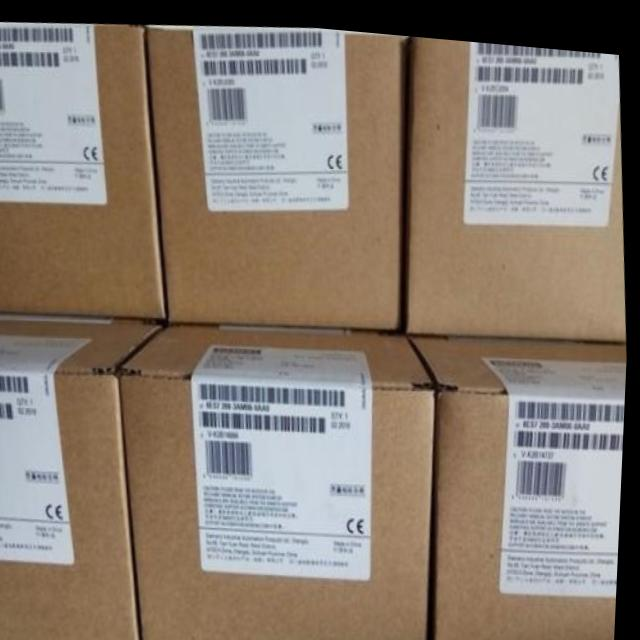box: (118, 321, 441, 640), (145, 22, 402, 323), (408, 328, 629, 640), (402, 28, 628, 330), (0, 315, 170, 640), (0, 22, 168, 318)
